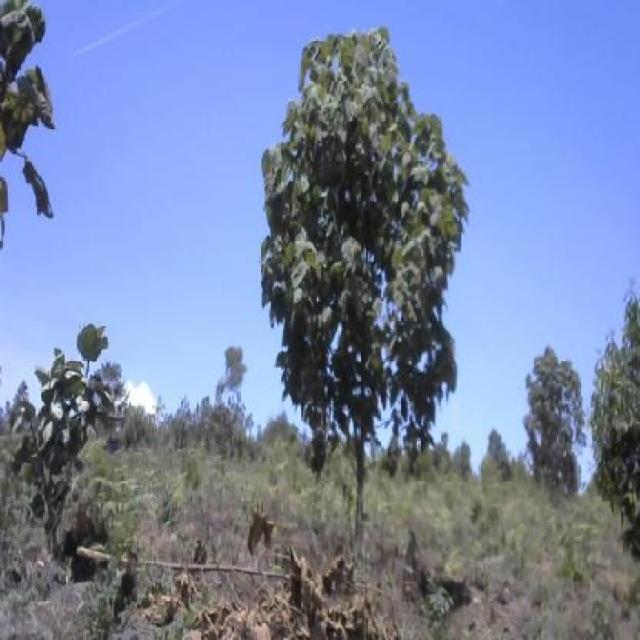tree trunk: (301, 41, 390, 572)
